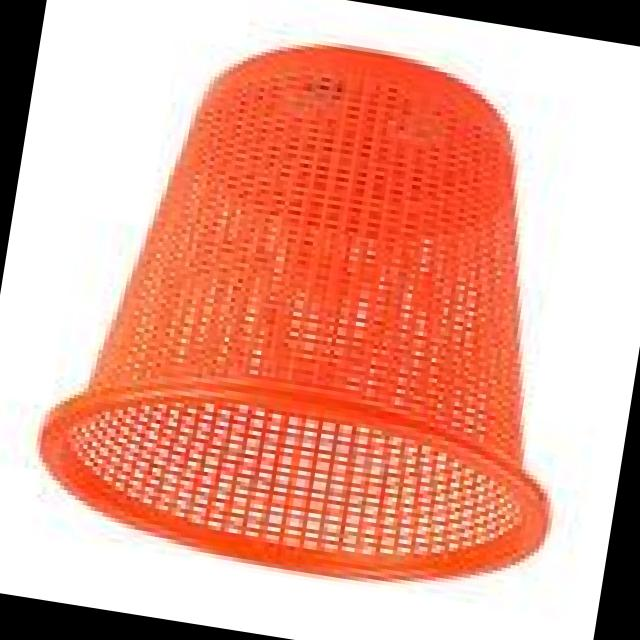dustbin: (16, 4, 628, 624)
